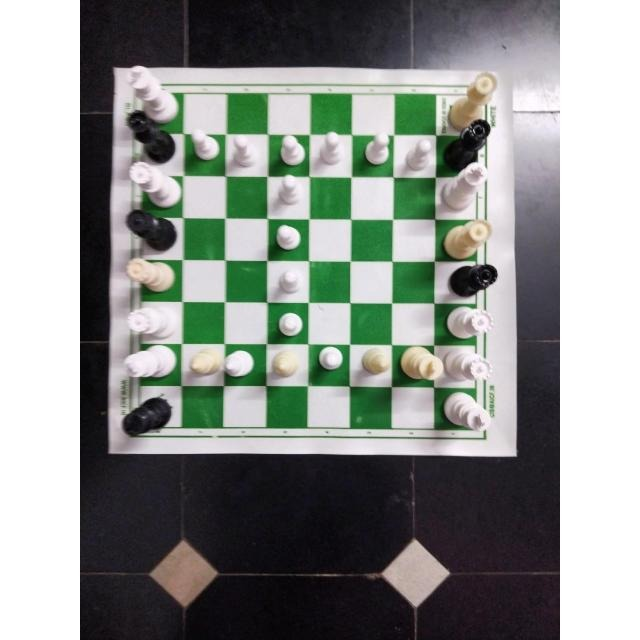black-king: (116, 393, 172, 441)
black-queen: (124, 108, 176, 161), (444, 259, 500, 299), (123, 208, 177, 249), (445, 121, 493, 165)
white-bishop: (185, 345, 221, 379), (223, 348, 258, 382), (358, 344, 391, 378), (270, 348, 302, 382)
white-king: (124, 66, 176, 118), (440, 162, 489, 213), (117, 345, 177, 385), (435, 393, 493, 428), (398, 342, 446, 384)
white-pawn: (311, 340, 346, 380), (272, 262, 307, 298), (276, 130, 307, 170), (187, 124, 221, 160), (360, 130, 394, 166), (229, 131, 260, 170), (315, 130, 345, 168), (276, 174, 305, 213), (274, 305, 306, 340), (403, 136, 435, 170), (272, 220, 304, 251)
white-queen: (448, 69, 497, 129), (128, 160, 181, 204), (439, 218, 488, 258), (120, 303, 174, 339), (124, 257, 176, 292), (444, 306, 494, 342), (443, 349, 493, 384)
